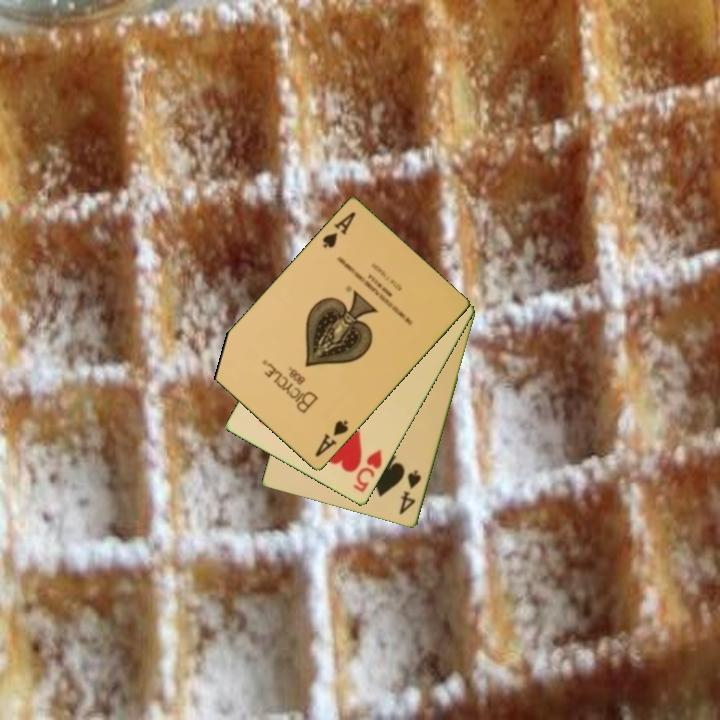4s: (396, 467, 424, 518)
5h: (350, 446, 385, 496)
As: (311, 417, 352, 460), (319, 208, 359, 251)
